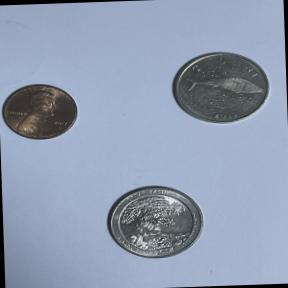Croatia-2Kune-B: (162, 46, 276, 132)
US-1cent-B: (0, 76, 88, 146)
US-25cent-B: (99, 178, 212, 263)
